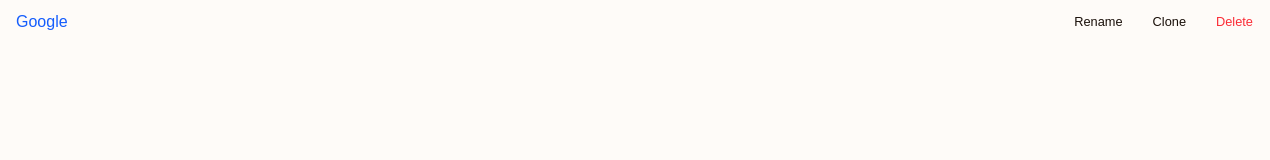
EntryItem › cancels rename and restores link
Click the button "Rename" at (1098, 22), box [1063,8,1134,36]
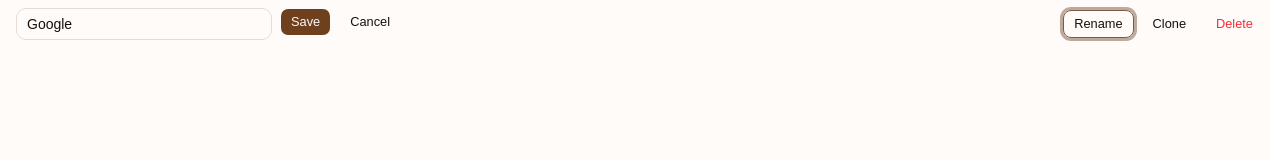
Click the button "Cancel" at (370, 22), box [339,8,401,36]
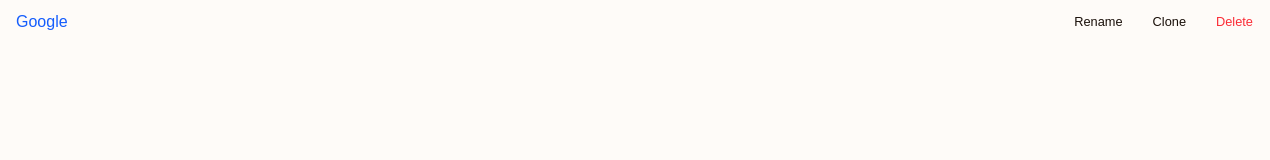
Now the link "Google" is shown, box [16,10,68,34]
